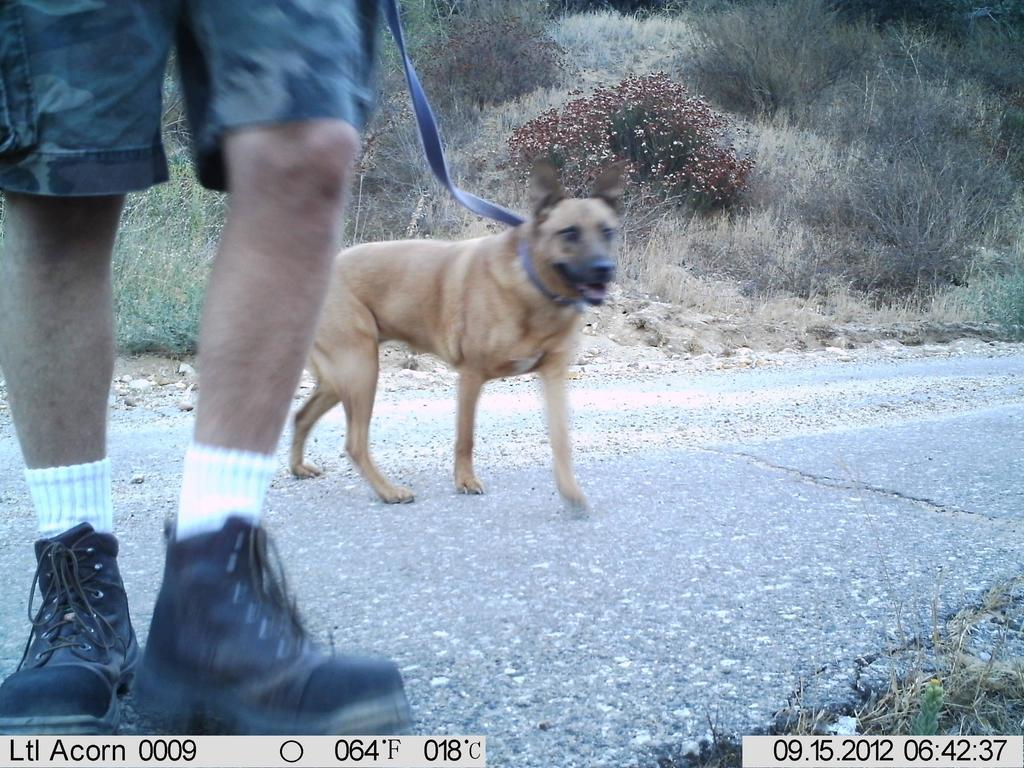dog: (289, 149, 633, 519)
